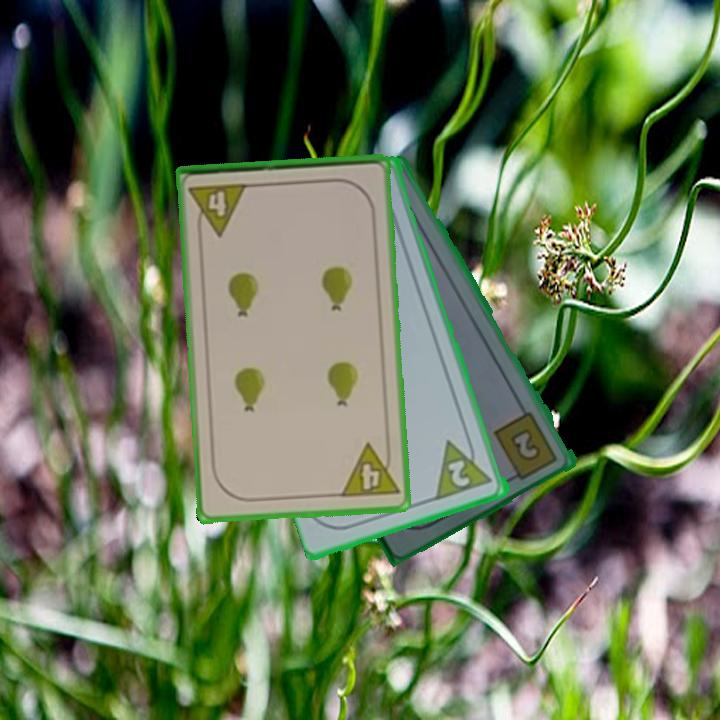2b: (490, 408, 562, 484)
2p: (445, 456, 474, 490)
4p: (337, 439, 402, 501), (186, 179, 251, 239)
